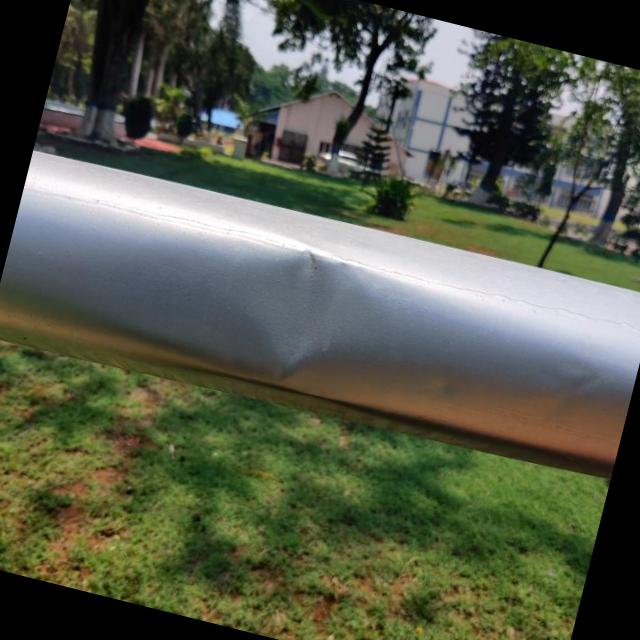Dent: (209, 238, 380, 404)
